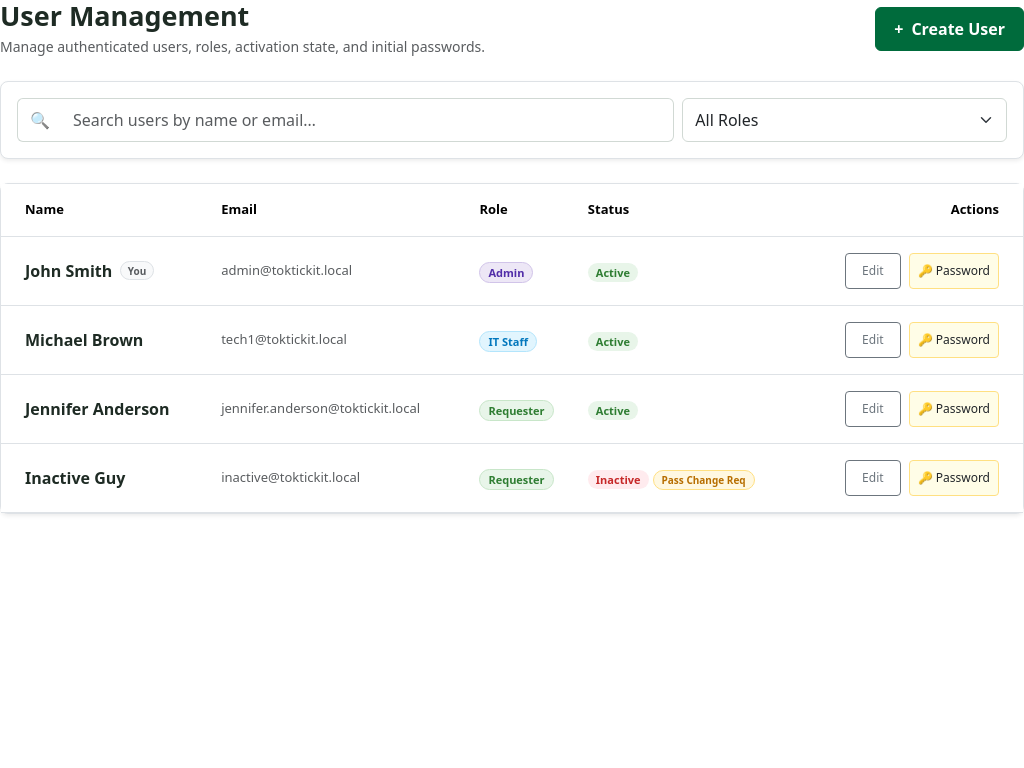
Test: UI-05: Administrator User Management UI Component Tests › opens Reset Password modal and submits new initial password
Expected: the text "Michael Brown" is shown, [25,328,143,352]
Click Password button on Michael Brown (#reset-password-btn-2)
Click the button with id "reset-password-btn-2".
click(954, 340)  # box [909,322,999,358]
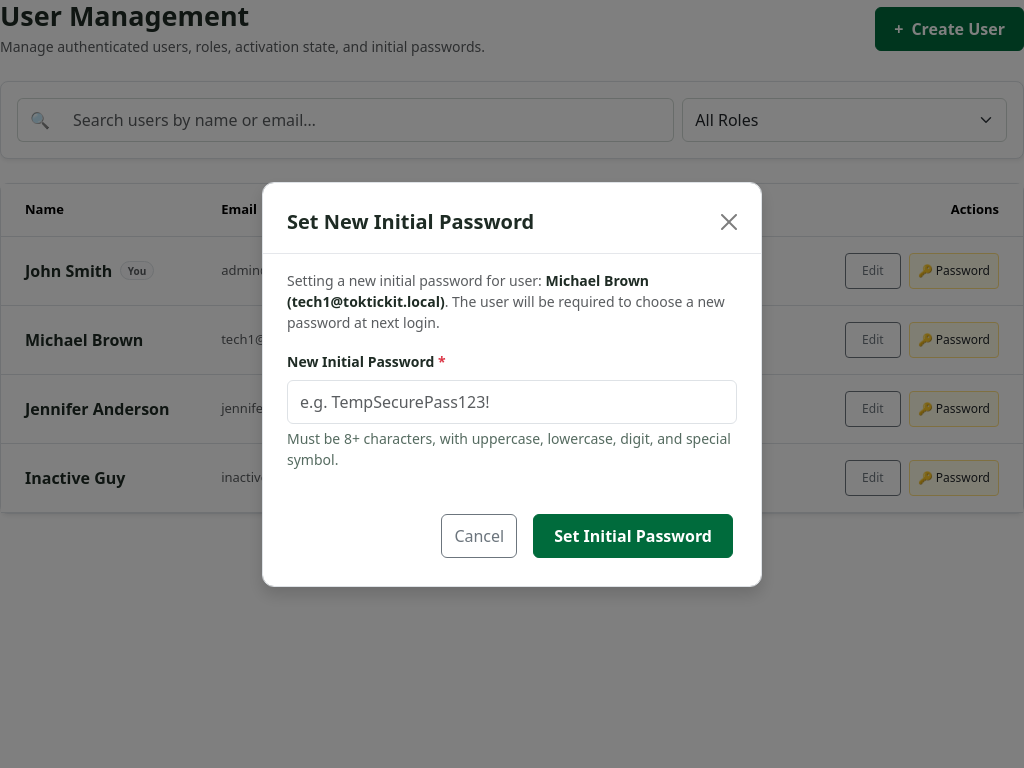
Result: the heading "Set New Initial Password" is shown at [287,206,534,236]
Result: the text "user will be required to choose a new password at next login" is shown at [287,292,725,332]
Type new initial password
Type "NewTempSecret123!" into the field labelled "New Initial Password *".
click(512, 402); type("NewTempSecret123!")  # box [287,380,737,424]
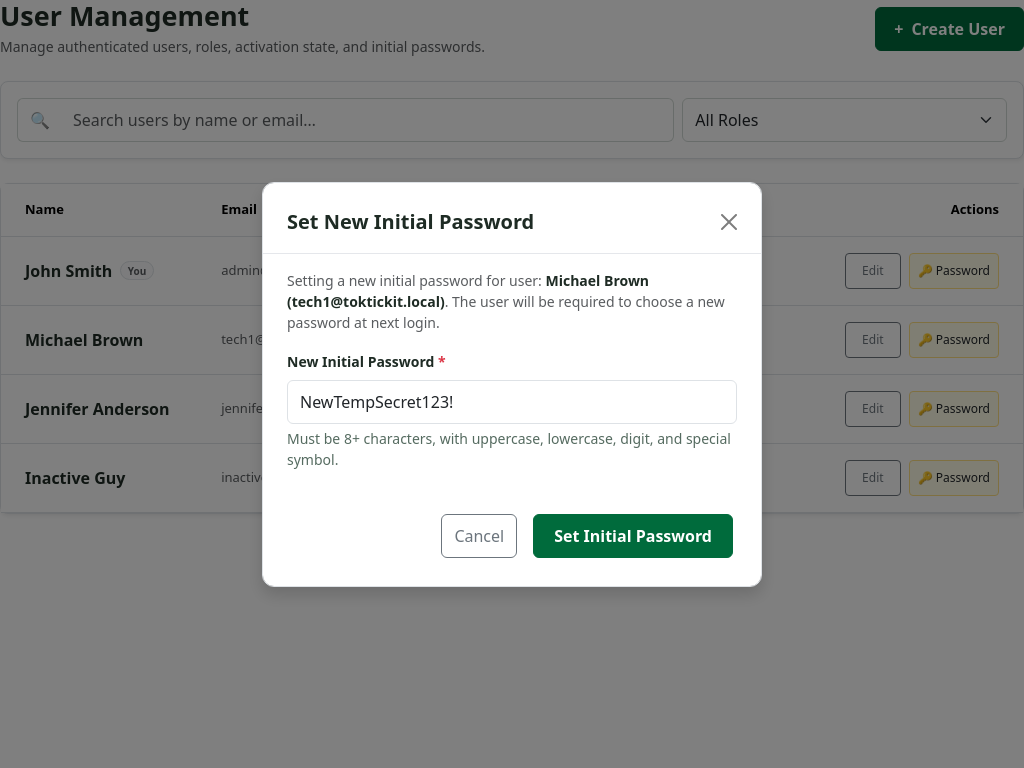
Click the button "Set Initial Password".
click(633, 536)  # box [533,514,733,558]
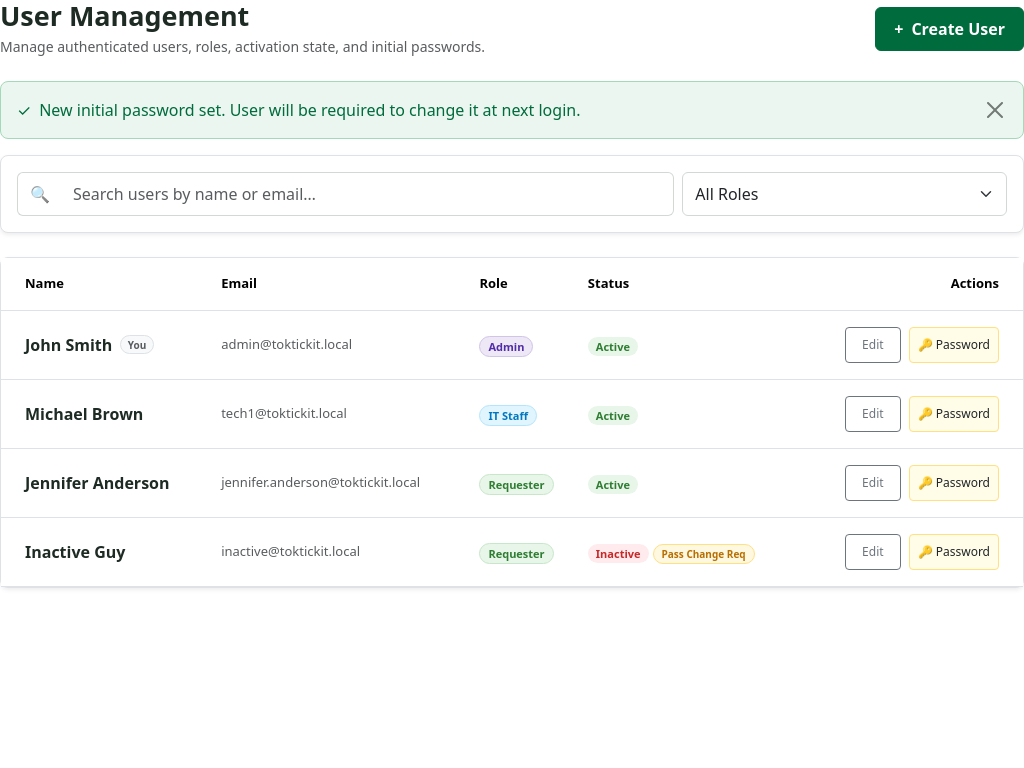
Result: the text "initial password set" is shown at [39,99,580,121]
